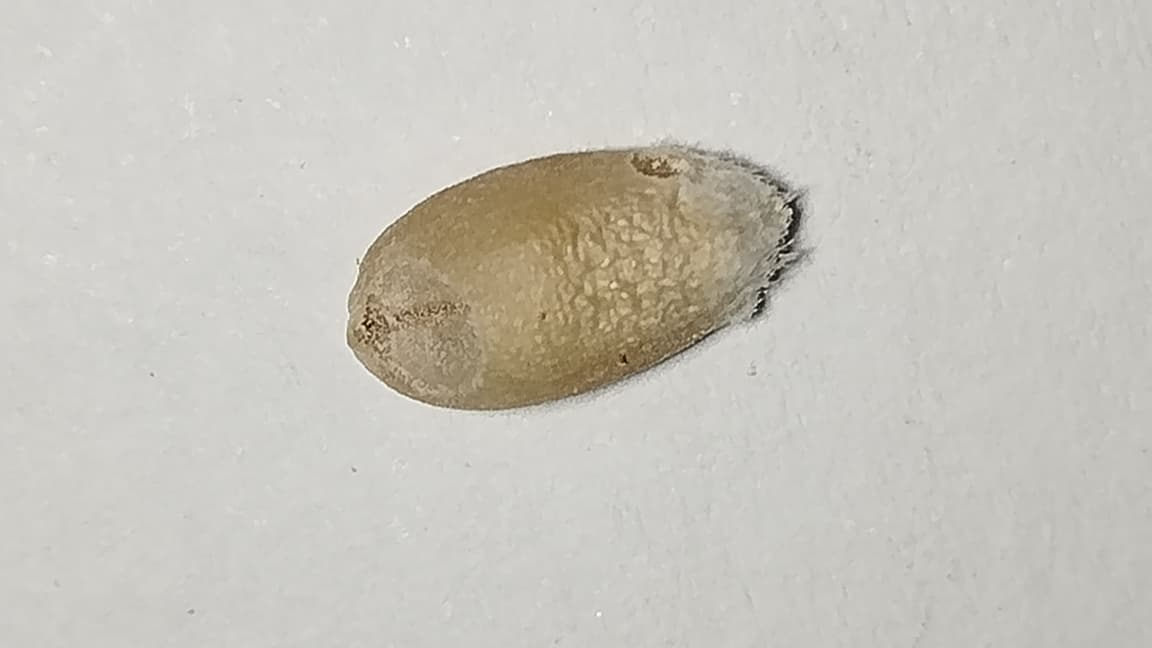damage: (349, 145, 803, 408)
insectdamage: (346, 247, 484, 407), (615, 136, 691, 183)
